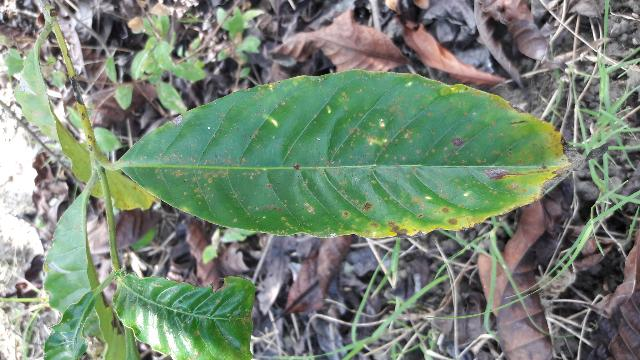rust_level_3: (123, 78, 557, 228)
